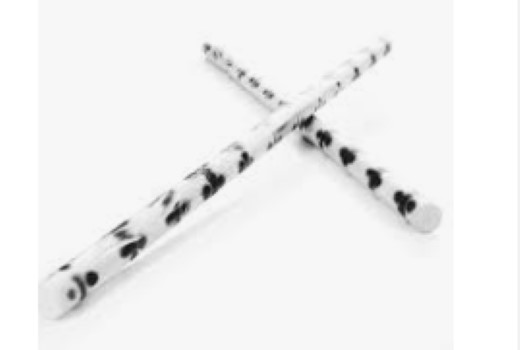baston_e: (77, 110, 272, 301), (293, 132, 431, 195), (324, 34, 371, 116), (203, 54, 295, 92)
baston_v: (23, 266, 93, 333), (382, 171, 447, 236), (194, 39, 232, 67), (370, 26, 400, 58)
